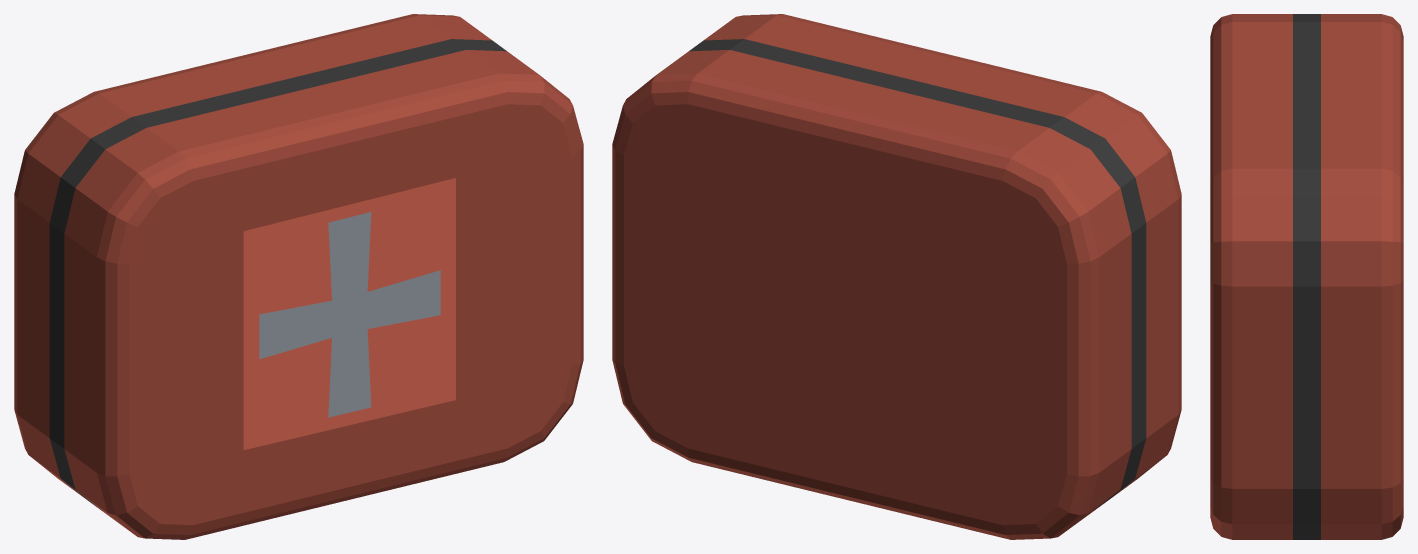
File: MedicalKit_01.fbx
The picture shows the model from 3 angles, left to right: view 1: azimuth 30°, elevation 25°; view 2: azimuth 150°, elevation 25°; view 3: azimuth 270°, elevation 25°; orthographic projection. The views are drawn at different scales.
Parts seen in each view (by area): view 1: MedicalKit_01; view 2: MedicalKit_01; view 3: MedicalKit_01.
Part boxes in pixels (box(x1,y1,x2,y2)): MedicalKit_01: box(14, 14, 583, 539); MedicalKit_01: box(612, 14, 1181, 539); MedicalKit_01: box(1210, 14, 1403, 539).
Bounding box in the file's own units: 32.93 × 25.18 × 12.15.
